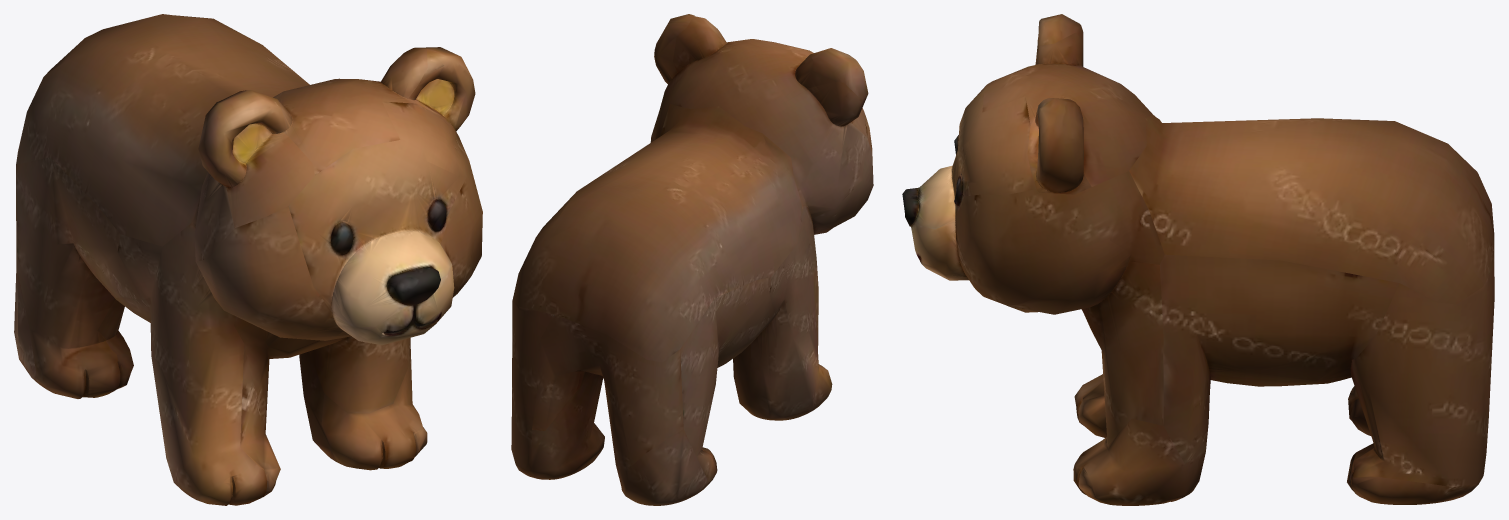
File: bear_pbr.glb
3 renders of one model, left to right at view 1: azimuth 30°, elevation 25°; view 2: azimuth 150°, elevation 25°; view 3: azimuth 270°, elevation 25°, orthographic. The views are drawn at different scales.
Visible parts, largest first — view 1: model.001; view 2: model.001; view 3: model.001.
Boxes of the visible parts, bbox=[...] form: model.001: bbox=[14, 14, 482, 505]; model.001: bbox=[511, 14, 873, 505]; model.001: bbox=[902, 14, 1494, 505].
Size of the model in its own units: 0.86 by 1.32 by 1.78.
1 material, 1 textured.
